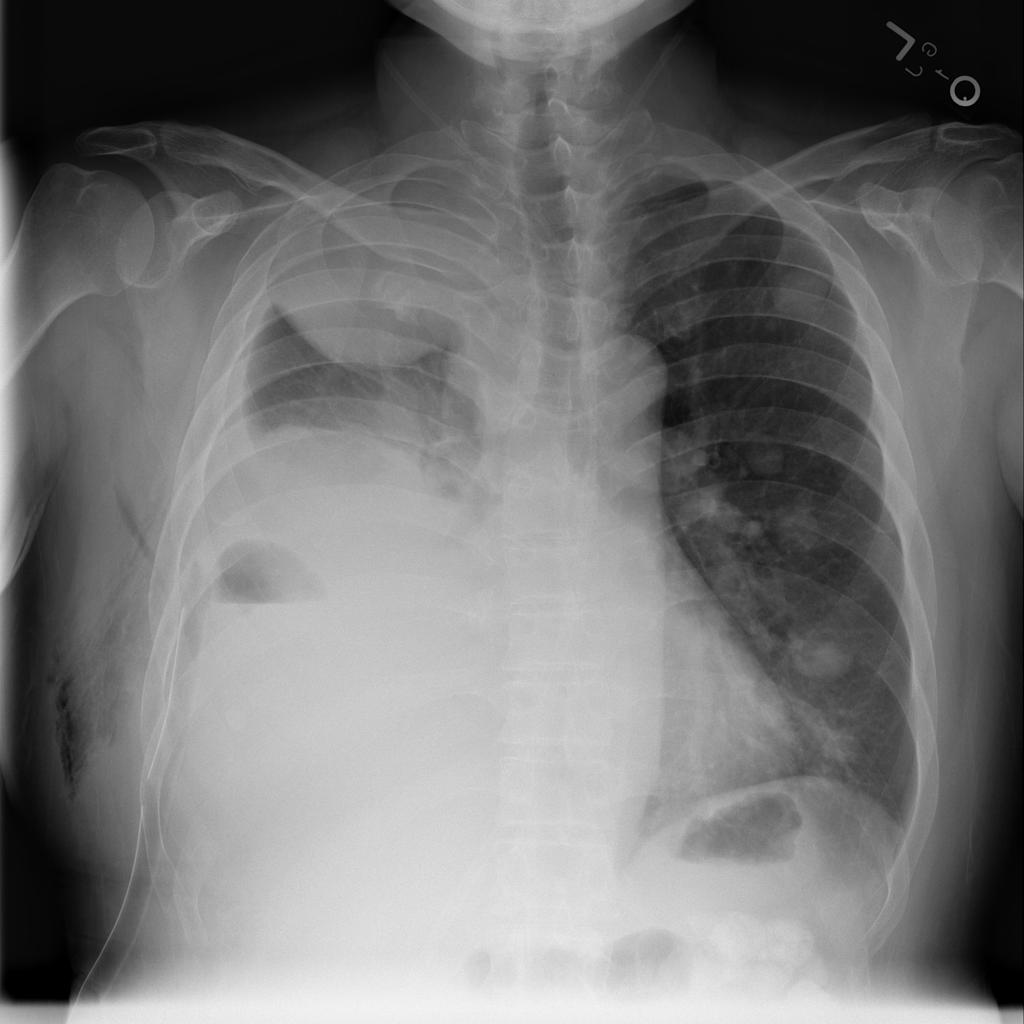nodule: (759, 257, 843, 333), (783, 617, 869, 689), (762, 491, 836, 570), (731, 670, 803, 743), (802, 716, 878, 780), (733, 423, 801, 489)
